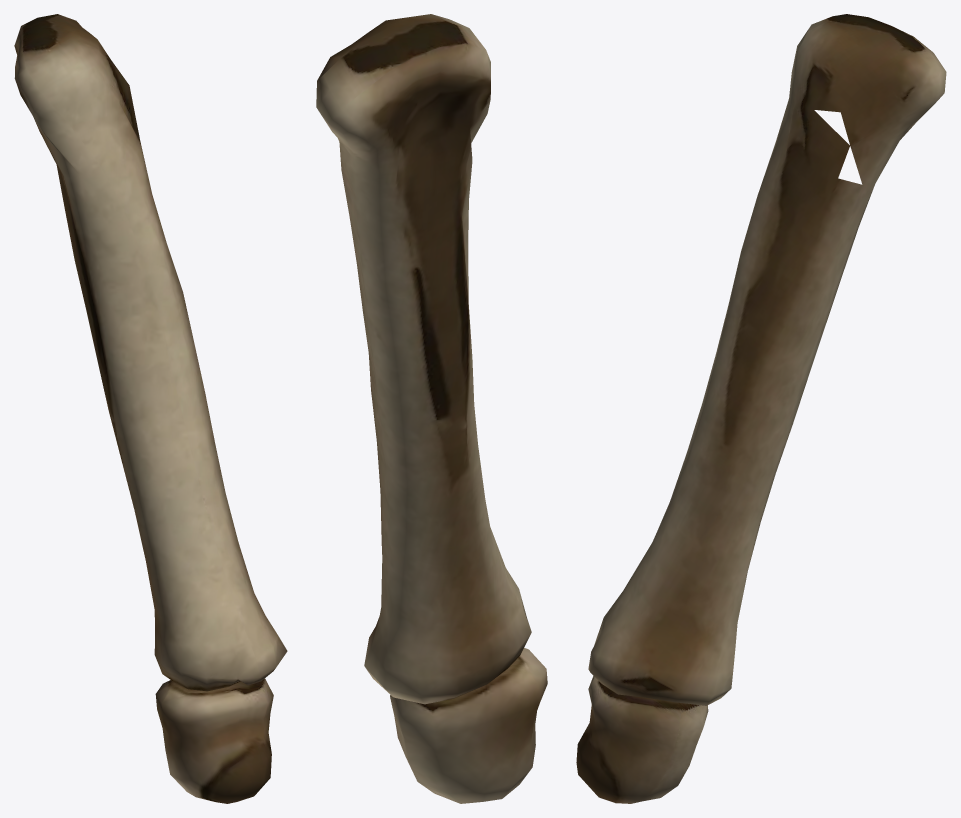
The model's file is Metatarsal_IV.glb.
3 renders of one model, left to right at view 1: azimuth 30°, elevation 25°; view 2: azimuth 150°, elevation 25°; view 3: azimuth 270°, elevation 25°, orthographic. The views are drawn at different scales.
Parts seen in each view (by area): view 1: Metatarsal_IV_Right1:Group32103; view 2: Metatarsal_IV_Right1:Group32103; view 3: Metatarsal_IV_Right1:Group32103.
Part boxes in pixels (x1,y1,x2,y2): Metatarsal_IV_Right1:Group32103: (14,14,287,803); Metatarsal_IV_Right1:Group32103: (316,14,547,803); Metatarsal_IV_Right1:Group32103: (576,14,946,803).
Size of the model in its own units: 15.1 by 59.91 by 27.09.
1 material, 1 textured.
